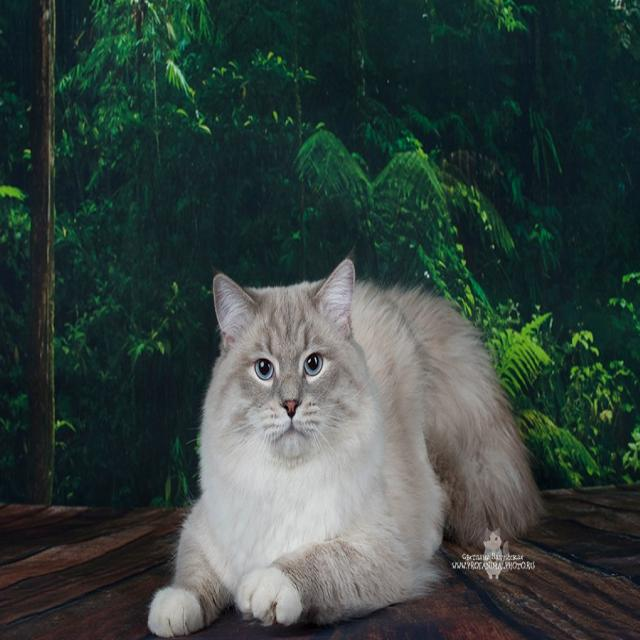Neva Masquerade: (141, 247, 548, 640)
